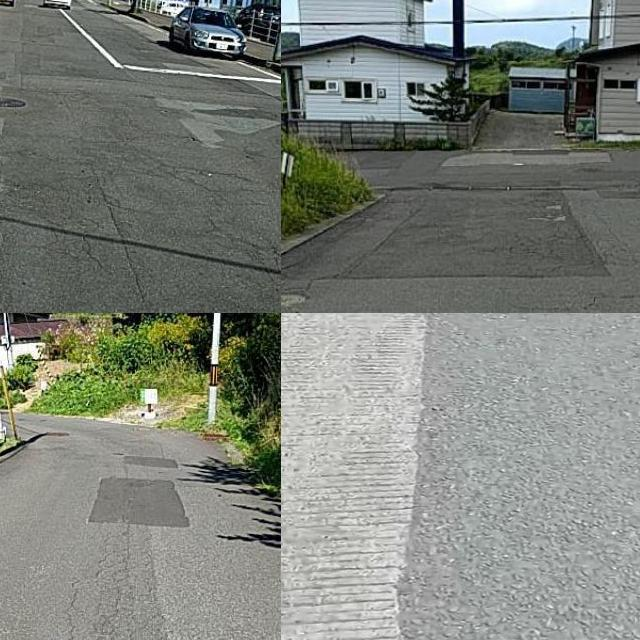Sambungan: (281, 313, 422, 640), (281, 194, 604, 276), (82, 473, 193, 532)
